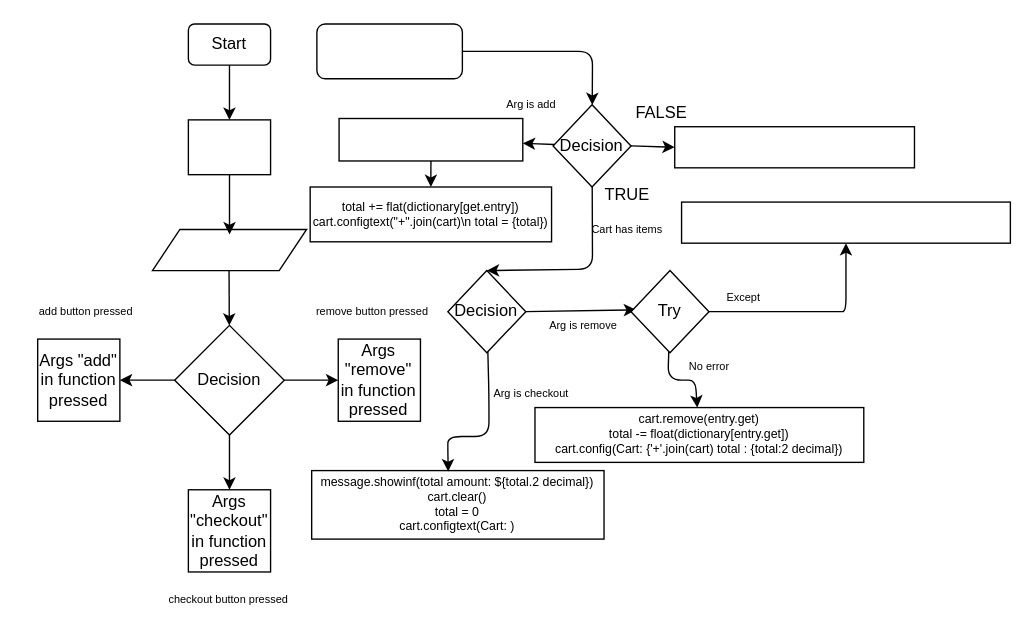
This 1034x637 diagram has some shape labels left out. The centre of each missing label's shape, as x and y in pixels:
Button pressed: point 229,249
cart.append(get.entry): point 430,139
Initialize modules: point 229,147
messagebox.showwarning(entry.get, is not in the cart}: point 845,222
messagebox.showwarning(Nothing in cart): point 793,146
press(Args): point 389,51
